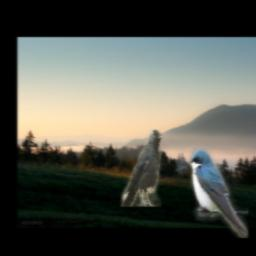Crow: (121, 130, 161, 208)
Swallow: (188, 148, 249, 238)
